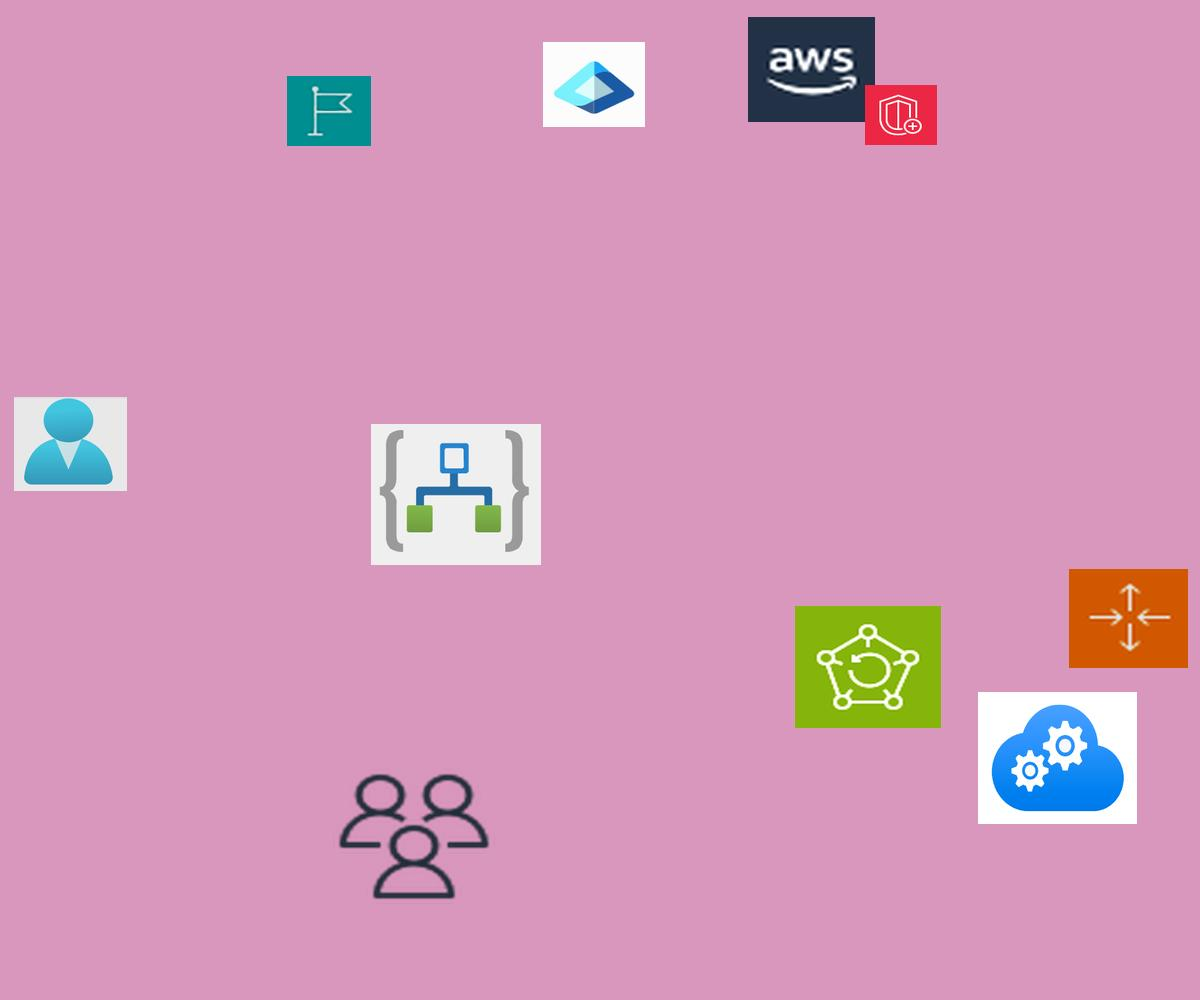AWS-Backup: (795, 606, 941, 728)
AWS-Cloud-logo: (748, 17, 875, 122)
AWS-Region: (287, 76, 371, 146)
AWS-Res_Users: (333, 769, 495, 904)
AWS-Scaling-group: (1069, 569, 1188, 668)
AWS-Shield: (865, 85, 937, 145)
Azure_cloud_services: (978, 692, 1137, 824)
Azure_integration-204-Logic-Apps: (371, 424, 541, 565)
Azure_microsoft_entra: (543, 42, 645, 127)
Azure_users: (14, 397, 127, 491)
